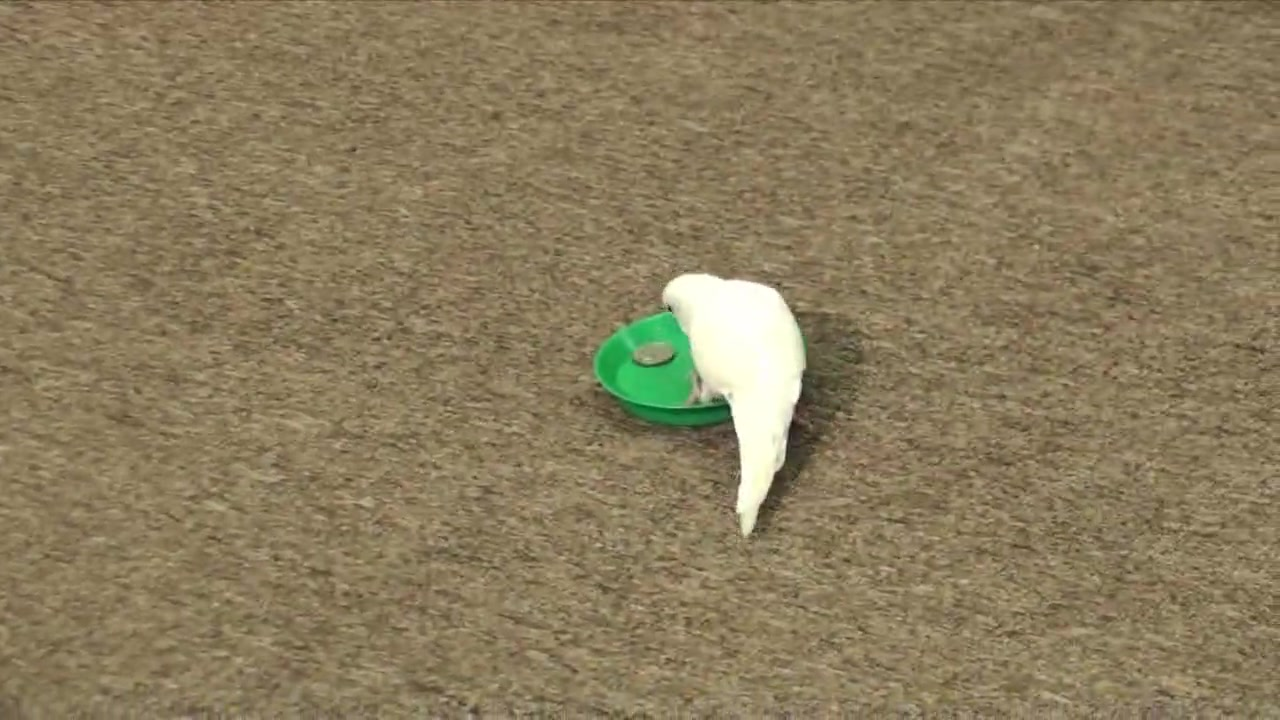bird: (664, 276, 815, 539)
